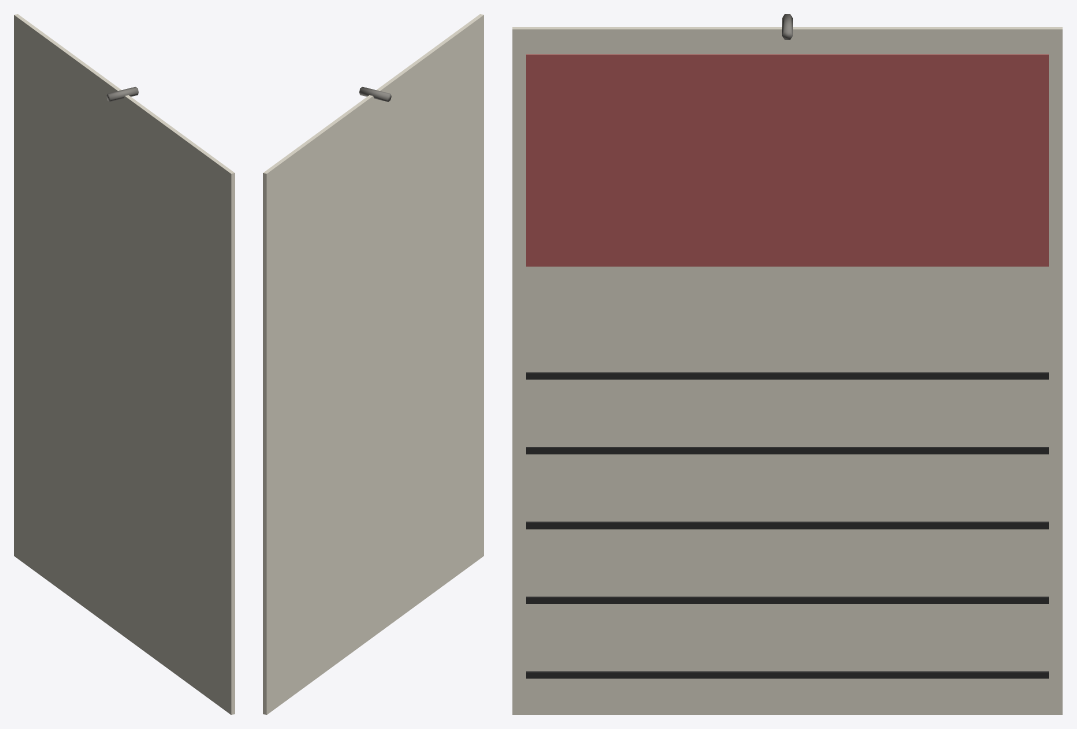
File: WallCalendar.gltf
3 views of the same model, side by side, from view 1: azimuth 30°, elevation 25°; view 2: azimuth 150°, elevation 25°; view 3: azimuth 270°, elevation 25° (orthographic). The views are drawn at different scales.
Parts seen in each view (by area): view 1: A_WallCalendar; view 2: A_WallCalendar; view 3: A_WallCalendar.
Part boxes in pixels (<box>): A_WallCalendar: <box>14,14,234,714</box>; A_WallCalendar: <box>263,14,483,714</box>; A_WallCalendar: <box>512,14,1062,714</box>.
Size of the model in its own units: 0.03 by 0.5535 by 0.4.
